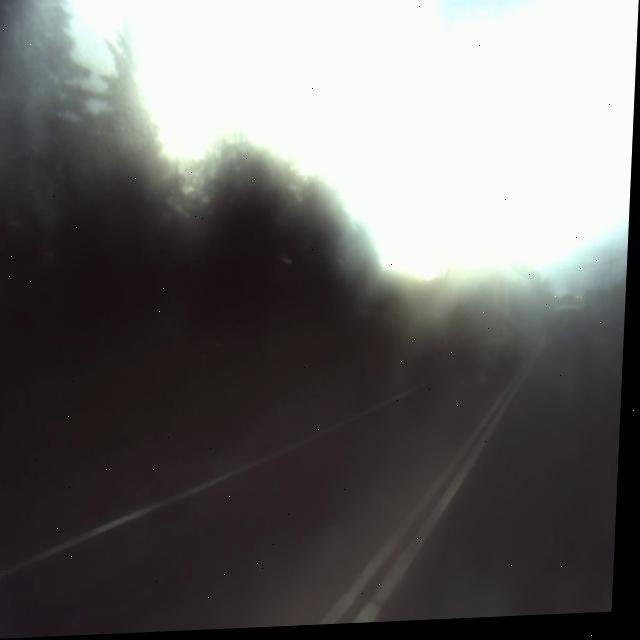car: (551, 297, 597, 370)
